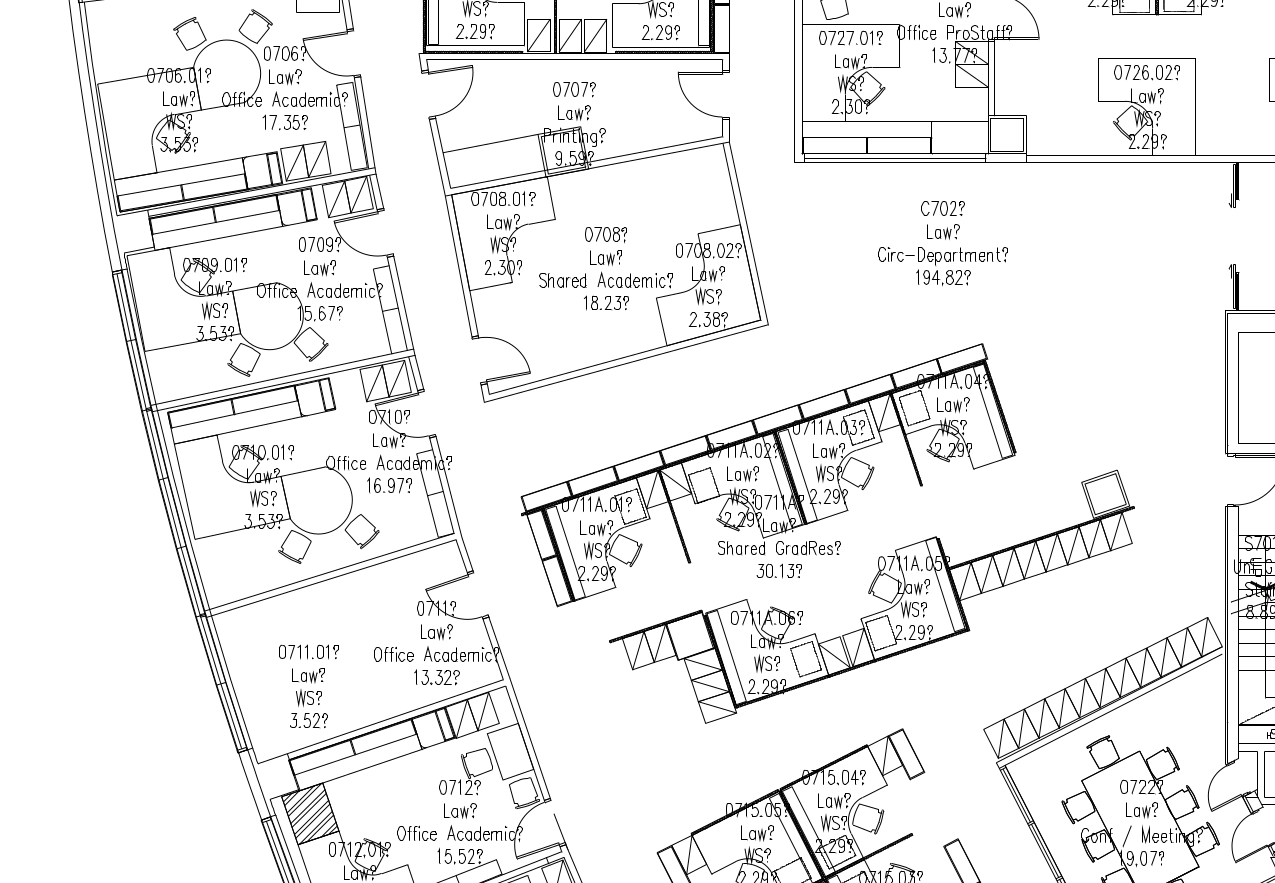door: (503, 794, 562, 864), (476, 317, 536, 385), (422, 60, 482, 128), (674, 65, 734, 133), (297, 28, 366, 81), (329, 210, 398, 263), (372, 390, 441, 443), (422, 573, 491, 626), (1200, 759, 1253, 814), (1222, 811, 1275, 866)
